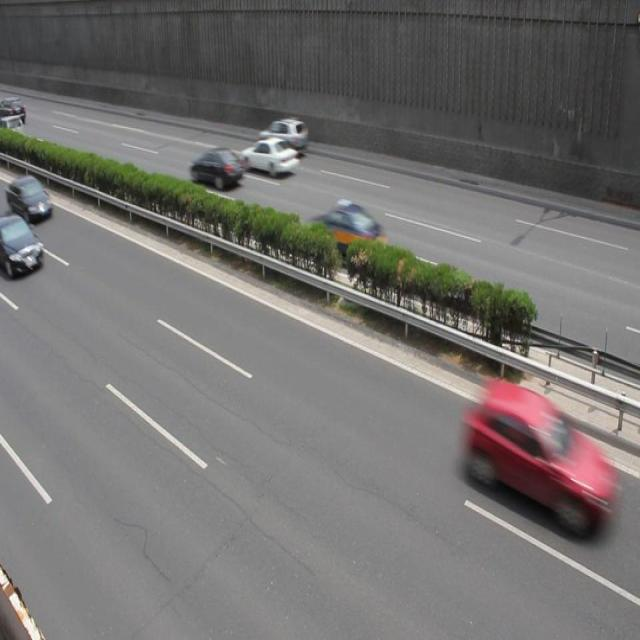car: (462, 381, 613, 538), (306, 198, 388, 262), (1, 210, 43, 280), (1, 174, 54, 224), (238, 136, 298, 177), (187, 147, 244, 190), (258, 116, 307, 154)
